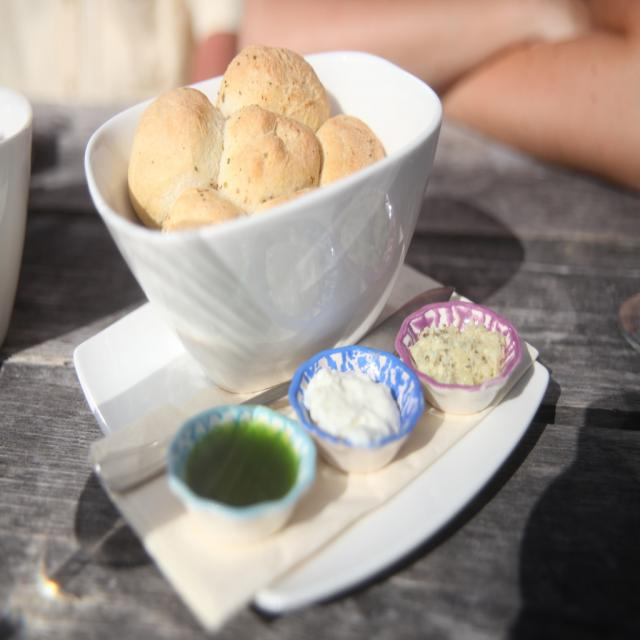non-organic waste: (46, 86, 561, 628)
